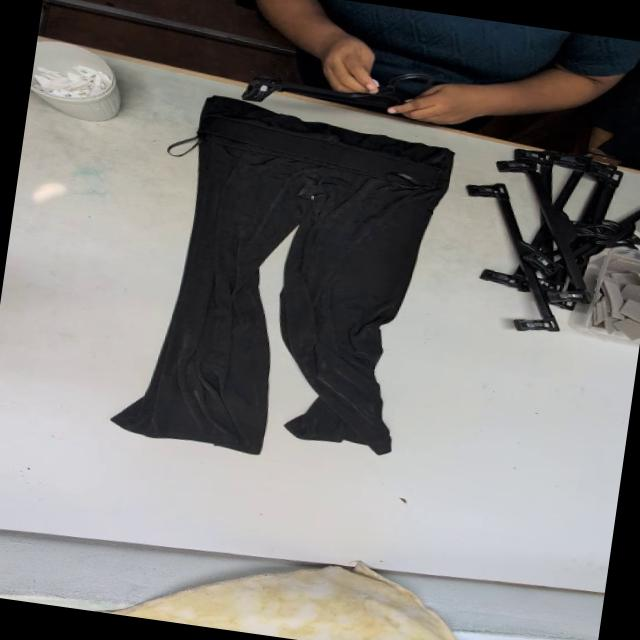new-garment: (112, 96, 453, 454)
